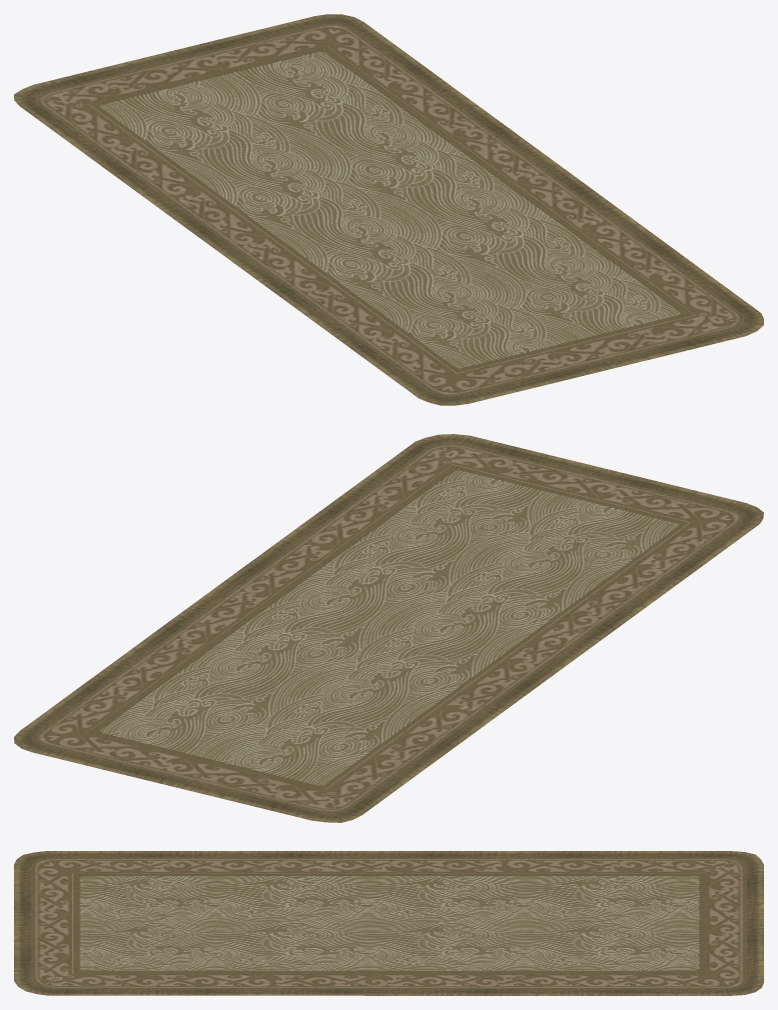
The model's file is mt_dj_ditan_01.fbx.
3 renders of one model, top to bottom at view 1: azimuth 30°, elevation 25°; view 2: azimuth 150°, elevation 25°; view 3: azimuth 270°, elevation 25°, orthographic. The views are drawn at different scales.
Parts seen in each view (by area): view 1: mt_dj_ditan_01; view 2: mt_dj_ditan_01; view 3: mt_dj_ditan_01.
Part boxes in pixels (box(x1,y1,x2,y2)): mt_dj_ditan_01: box(14, 14, 763, 405); mt_dj_ditan_01: box(14, 434, 763, 822); mt_dj_ditan_01: box(14, 851, 763, 995).
Size of the model in its own units: 138 by 302 by 0.000192.
